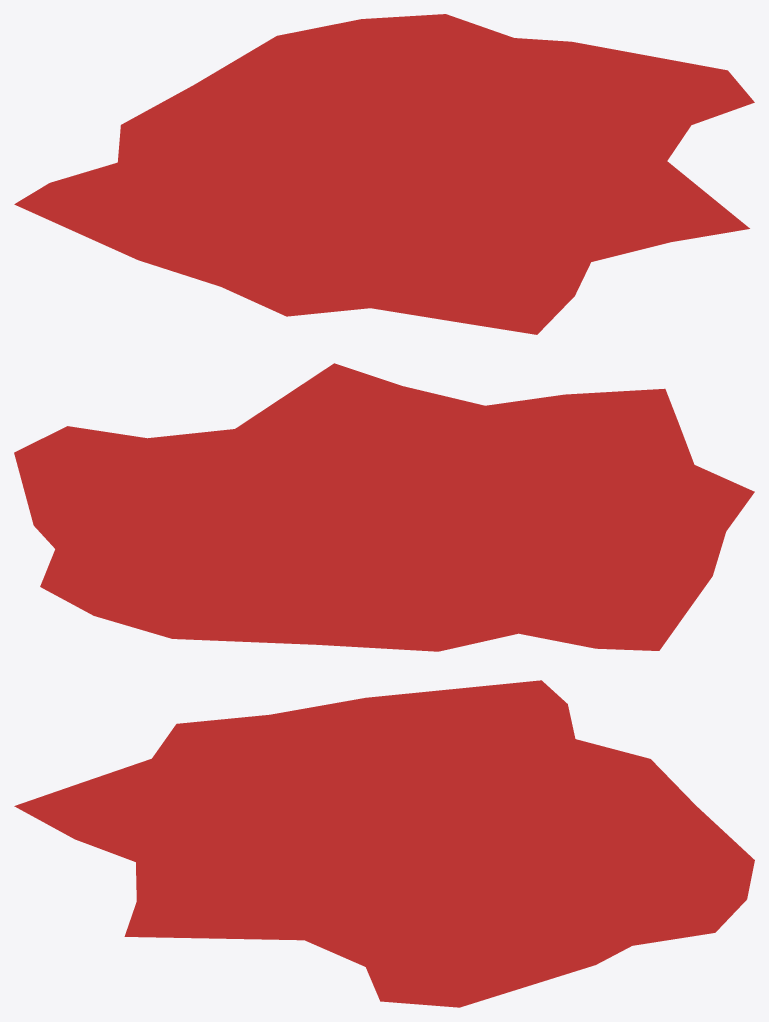
The model's file is Stains.3.fbx.
3 renders of one model, top to bottom at view 1: azimuth 30°, elevation 25°; view 2: azimuth 150°, elevation 25°; view 3: azimuth 270°, elevation 25°, orthographic. The views are drawn at different scales.
Parts seen in each view (by area): view 1: Plane; view 2: Plane; view 3: Plane.
Part boxes in pixels (bbox=[...]): Plane: bbox=[14, 14, 754, 334]; Plane: bbox=[14, 363, 754, 651]; Plane: bbox=[14, 680, 754, 1007].
Bounding box in the file's own units: 86.47 × 0.000108 × 82.72.
